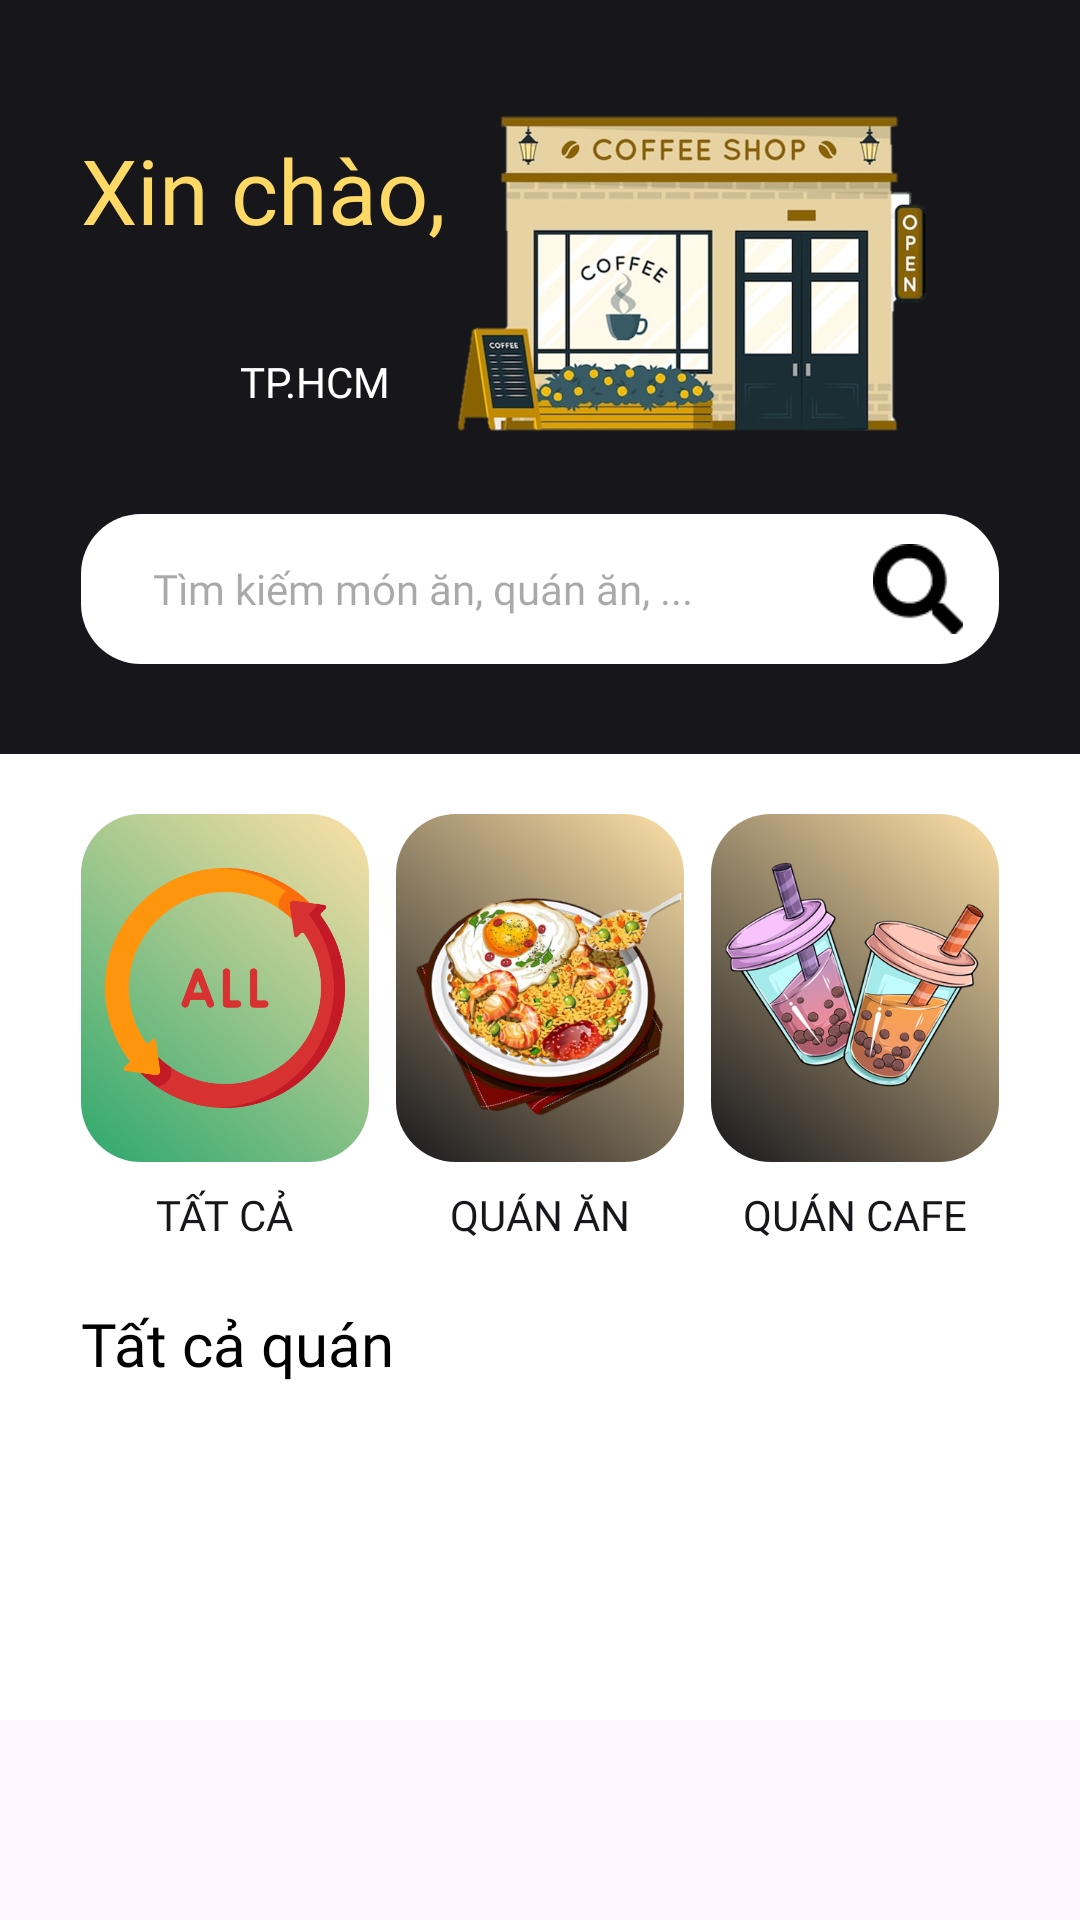

Icon bounding boxes for this 1080 x 1920 phone screenshot, format bbox=(x1, y1, x2, y2):
search: bbox=(873, 544, 963, 634)
